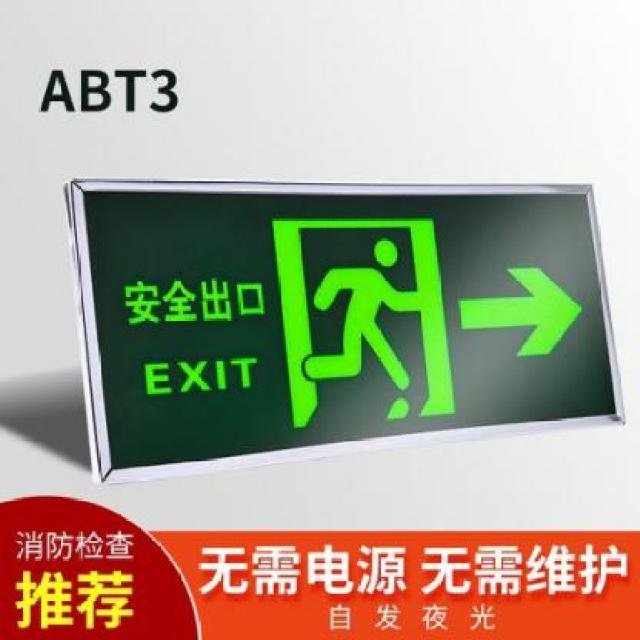exit_sign: (60, 165, 628, 459)
